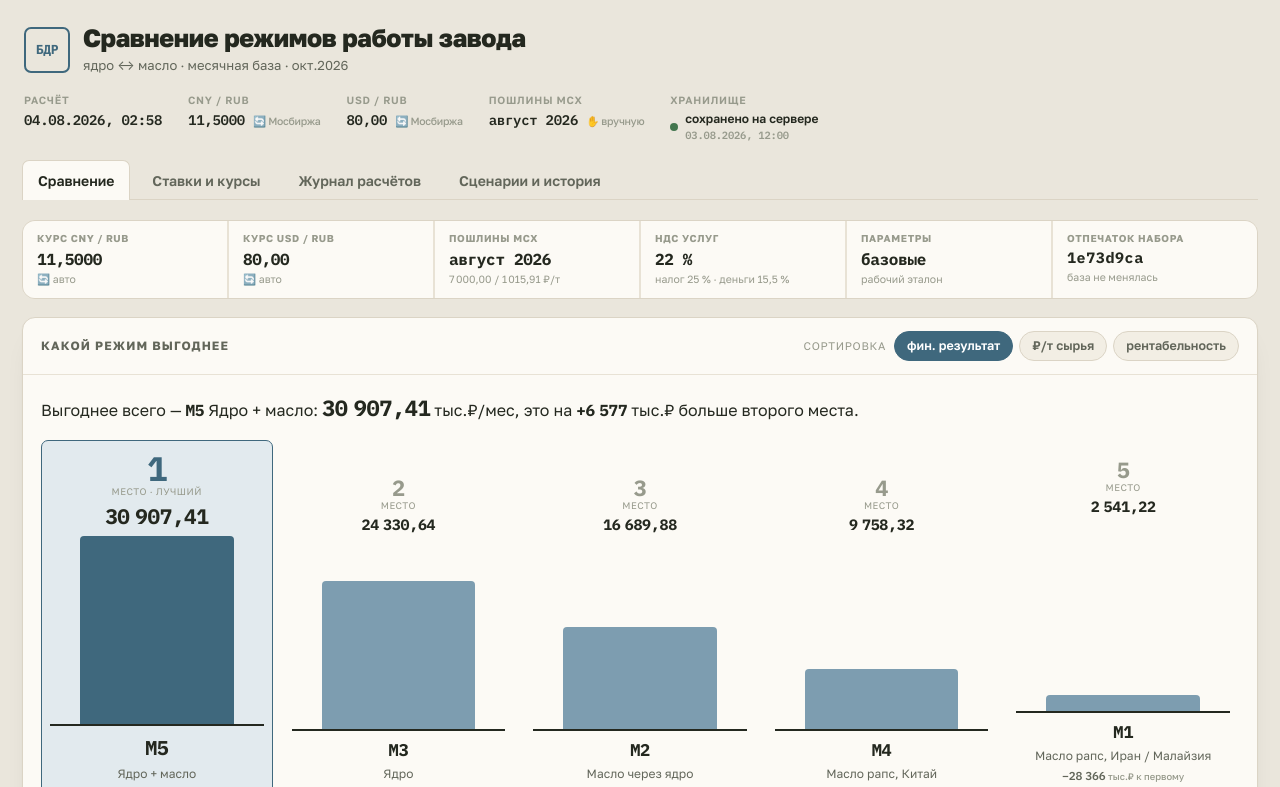
Test case: Один источник › применяется только по слову человека
Click the button "Ставки и курсы".
click(206, 180)  # box [136,160,277,200]
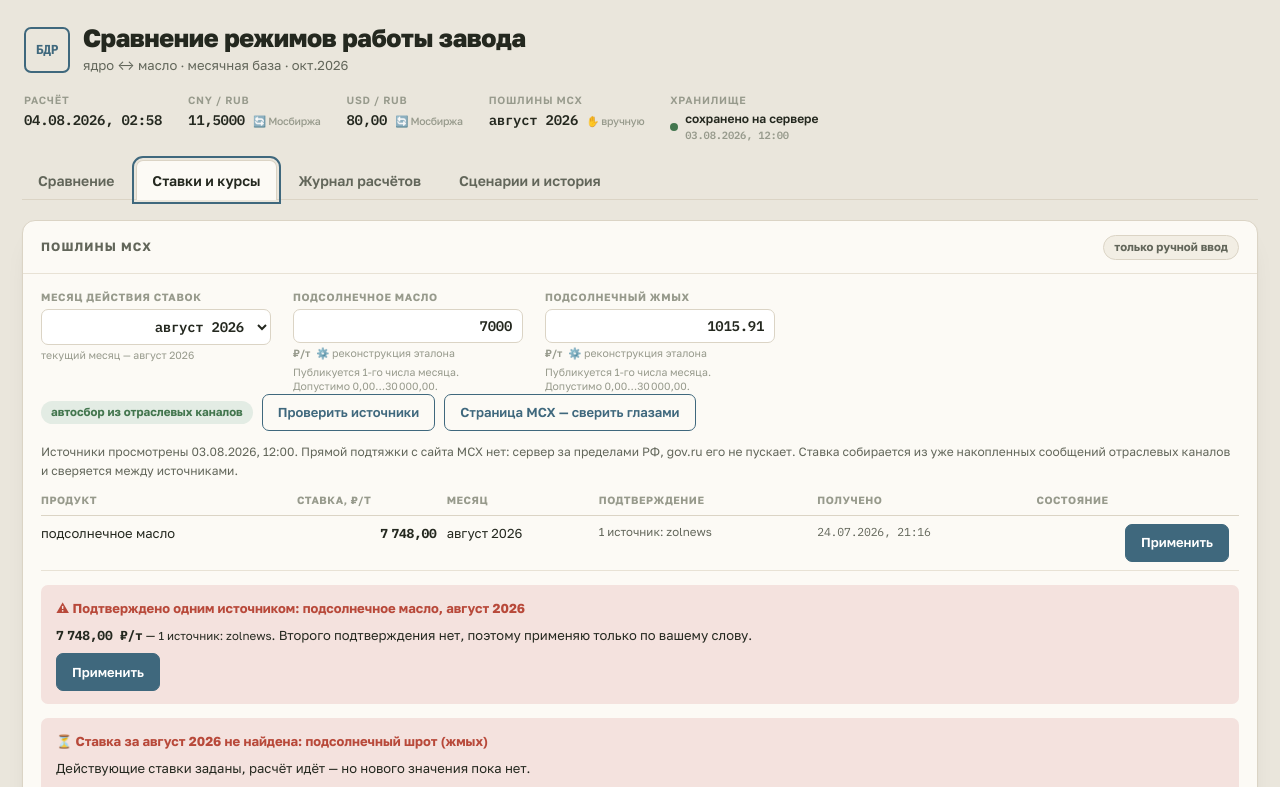
Check: the text "Подтверждено одним источником" is shown, box [56,600,303,616]
